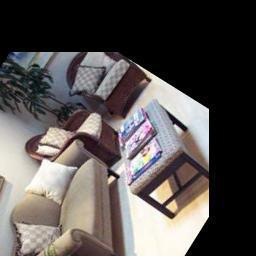Matera: (0, 54, 87, 145), (43, 251, 127, 256)
